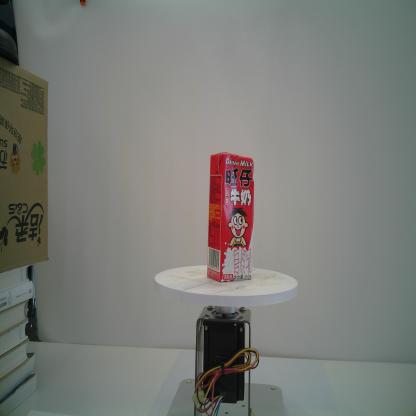Milk: (206, 150, 256, 287)
